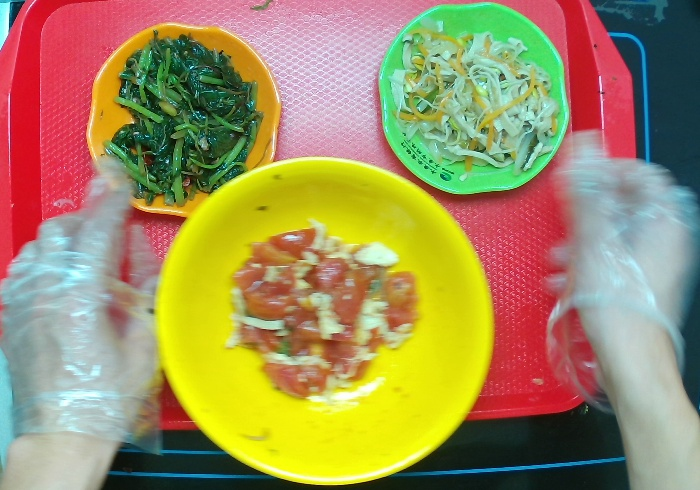YKMZ-Huang_Se_Tang_Wan: (152, 154, 495, 490)
YKMZ-Ju_Se_Ao_Bian_Wan: (85, 24, 282, 220)
YKMZ-Lv_Se_Ao_Bian_Wan: (379, 3, 571, 195)
